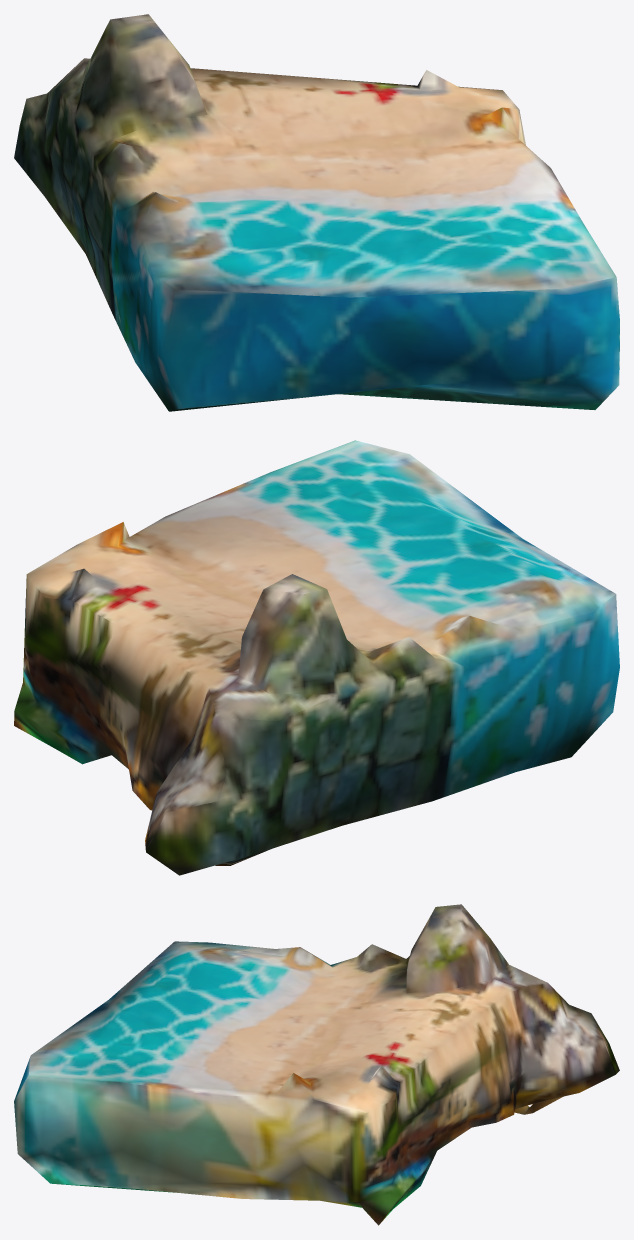
File: CoastalCave_Floor.fbx
The picture shows the model from 3 angles, top to bottom: view 1: azimuth 30°, elevation 25°; view 2: azimuth 150°, elevation 25°; view 3: azimuth 270°, elevation 25°; orthographic projection. The views are drawn at different scales.
Visible parts, largest first — view 1: CoastalCave_Floor_Mesh; view 2: CoastalCave_Floor_Mesh; view 3: CoastalCave_Floor_Mesh.
Part boxes in pixels (<box>): CoastalCave_Floor_Mesh: <box>14,14,619,411</box>; CoastalCave_Floor_Mesh: <box>14,440,619,875</box>; CoastalCave_Floor_Mesh: <box>14,904,619,1225</box>.
Size of the model in its own units: 6 by 3.16 by 8.67.
Materials: 1 (1 with a texture image).
